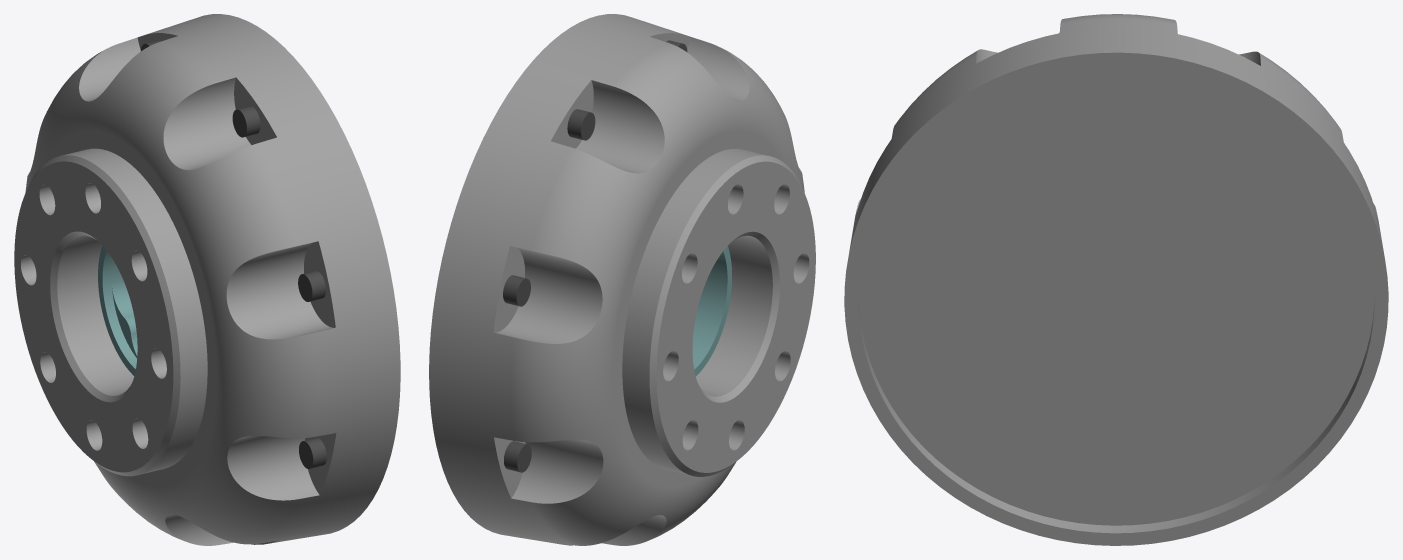
The picture shows the model from 3 angles, left to right: view 1: azimuth 30°, elevation 25°; view 2: azimuth 150°, elevation 25°; view 3: azimuth 270°, elevation 25°; orthographic projection. The views are drawn at different scales.
Visible parts, largest first — view 1: Link_7; view 2: Link_7; view 3: Link_7.
Part boxes in pixels (<box>): Link_7: <box>14,14,400,545</box>; Link_7: <box>429,14,815,545</box>; Link_7: <box>844,14,1388,545</box>.
Size of the model in its own units: 0.0384 by 0.1022 by 0.1022.
